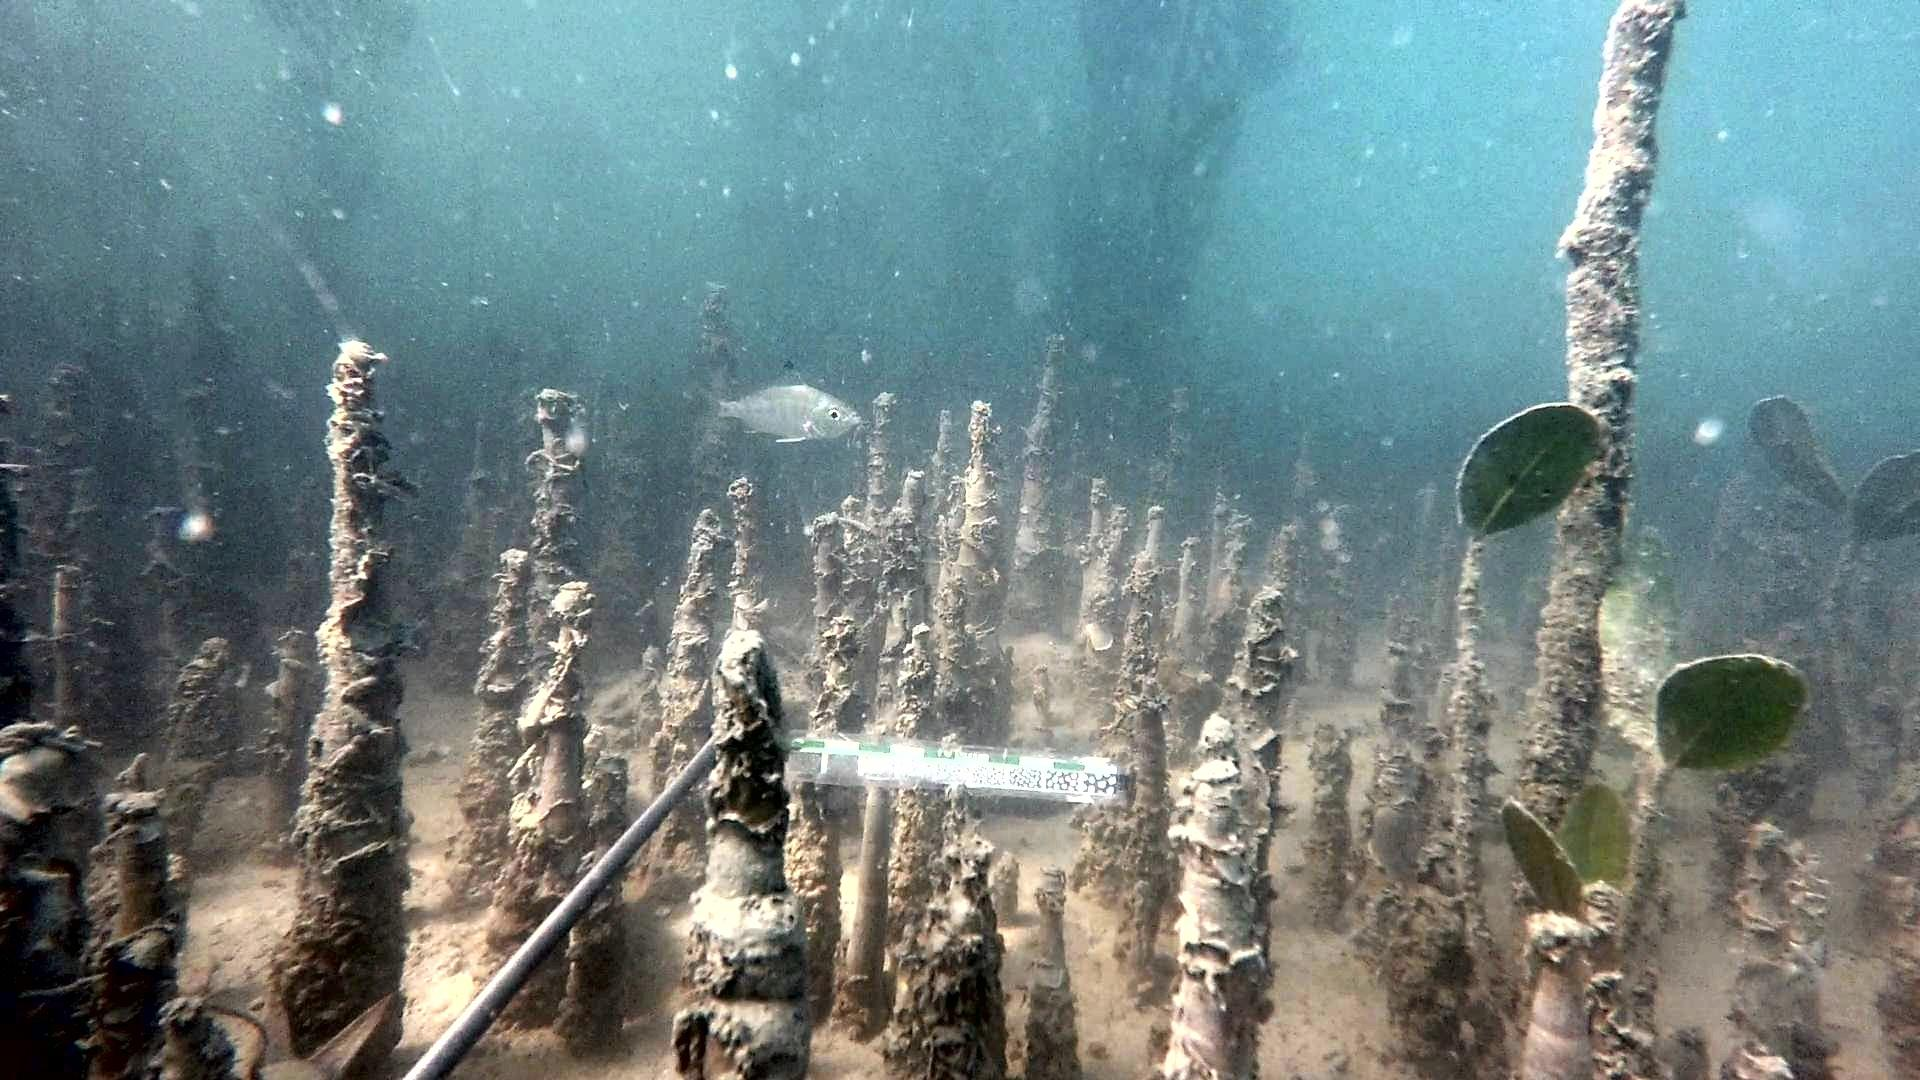gerres: (694, 359, 864, 444)
